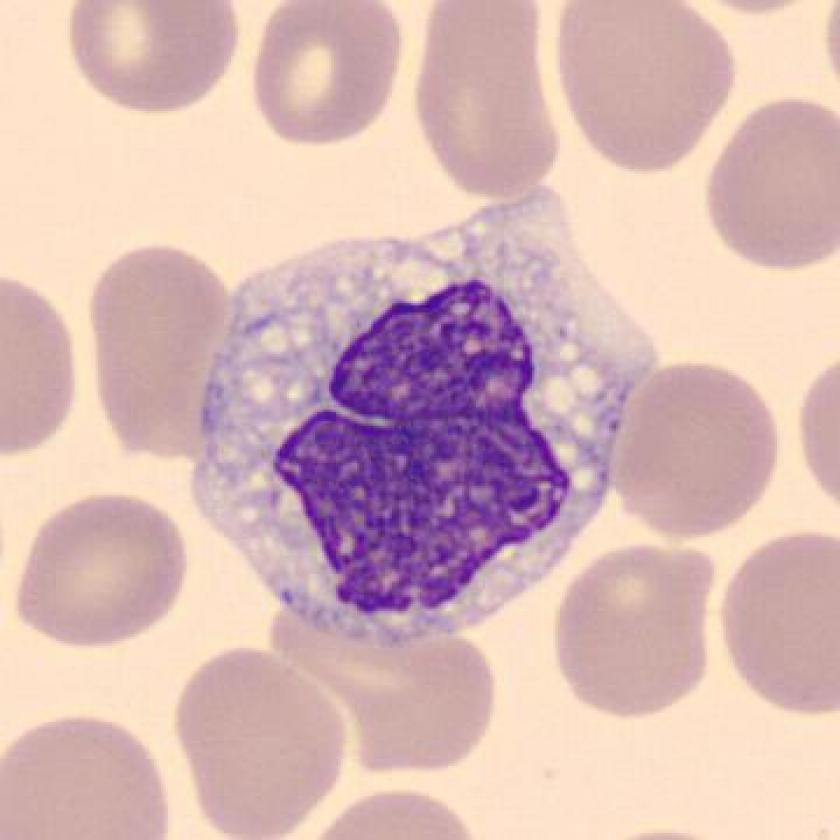monocyte: (176, 175, 675, 654)
